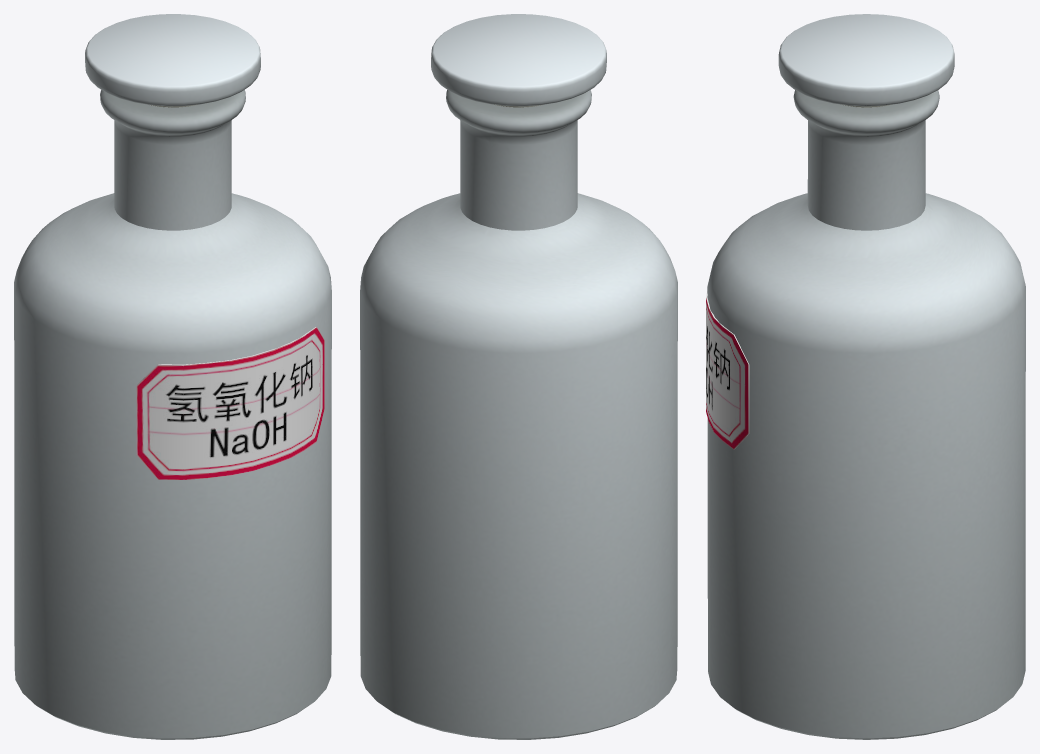
File: hx_hxyq_NAOH.FBX
3 renders of one model, left to right at view 1: azimuth 30°, elevation 25°; view 2: azimuth 150°, elevation 25°; view 3: azimuth 270°, elevation 25°, orthographic.
Parts seen in each view (by area): view 1: hx_yp_qyhnry_p, hx_yp_qyhnry_bq, hx_yp_qyhnry_g; view 2: hx_yp_qyhnry_p, hx_yp_qyhnry_g; view 3: hx_yp_qyhnry_p, hx_yp_qyhnry_g, hx_yp_qyhnry_bq.
Part boxes in pixels (<box>): hx_yp_qyhnry_p: <box>14,90,331,739</box>; hx_yp_qyhnry_bq: <box>136,327,324,479</box>; hx_yp_qyhnry_g: <box>85,14,260,107</box>; hx_yp_qyhnry_p: <box>360,90,677,739</box>; hx_yp_qyhnry_g: <box>431,14,606,107</box>; hx_yp_qyhnry_p: <box>707,90,1025,739</box>; hx_yp_qyhnry_g: <box>778,14,954,107</box>; hx_yp_qyhnry_bq: <box>706,291,749,449</box>.
Size of the model in its own units: 5.32 by 11.59 by 5.35.
3 materials, 3 textured.
